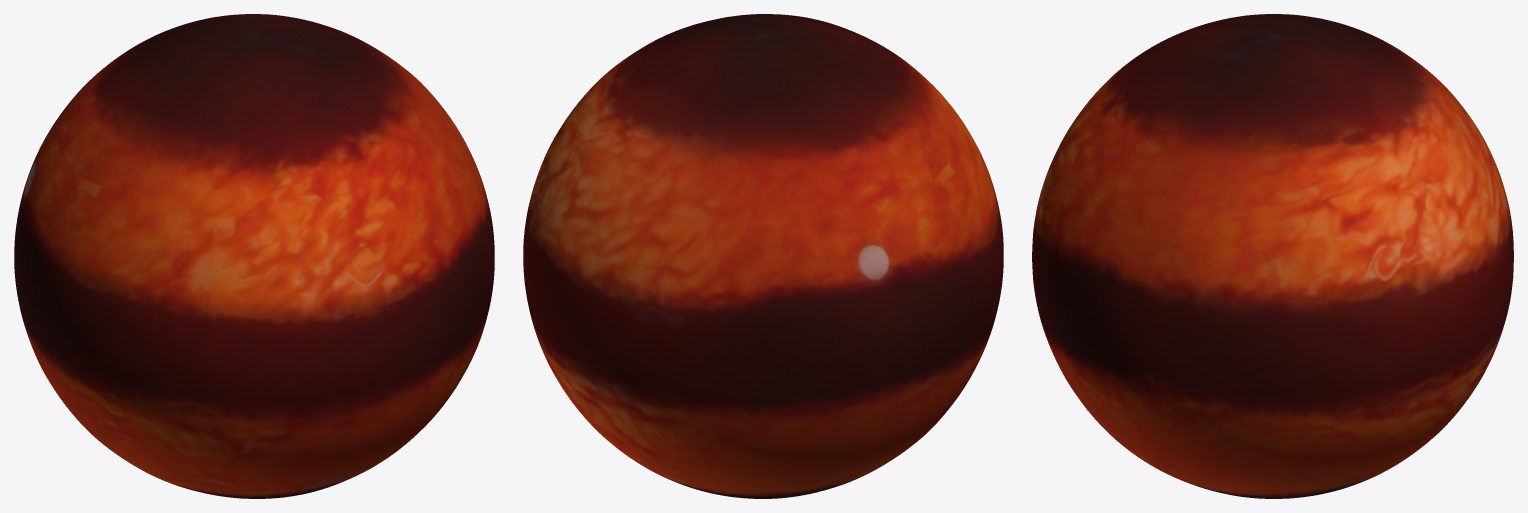
Rendered from planet.glb.
3 views of the same model, side by side, from view 1: azimuth 30°, elevation 25°; view 2: azimuth 150°, elevation 25°; view 3: azimuth 270°, elevation 25° (orthographic).
Bounding box in the file's own units: 1.22 × 1.23 × 1.22.
1 material, 1 textured.
